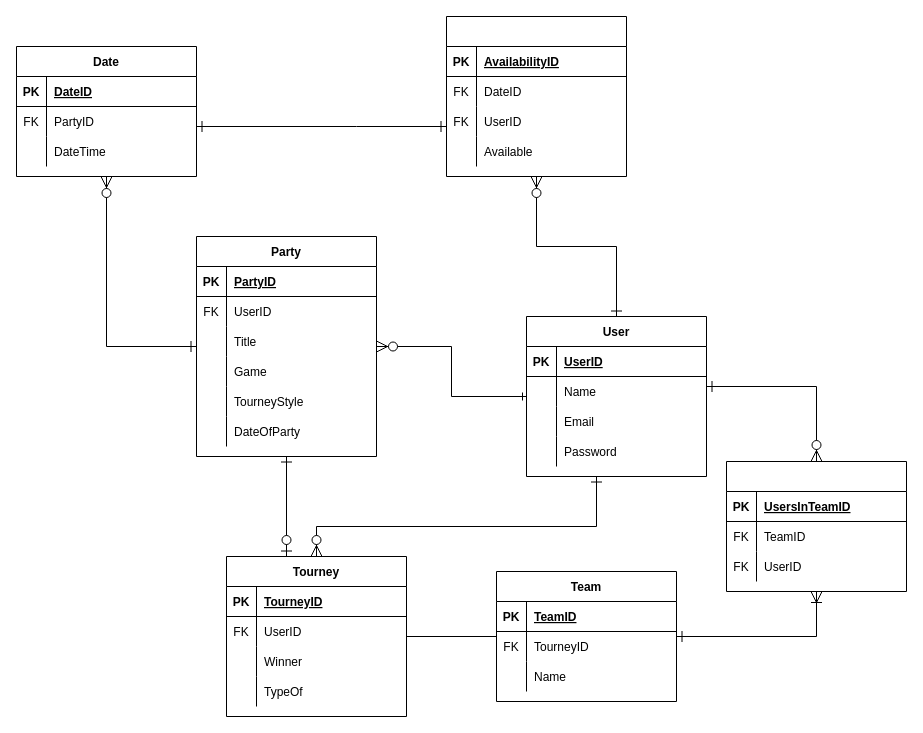
Image size: 923x733. Some labels were removed from this diagram. Here are the shapes that lost their labels. From the top down, the box of each, then its label:
(446, 16, 626, 176): Availablility
(726, 460, 906, 592): UserInTeam
